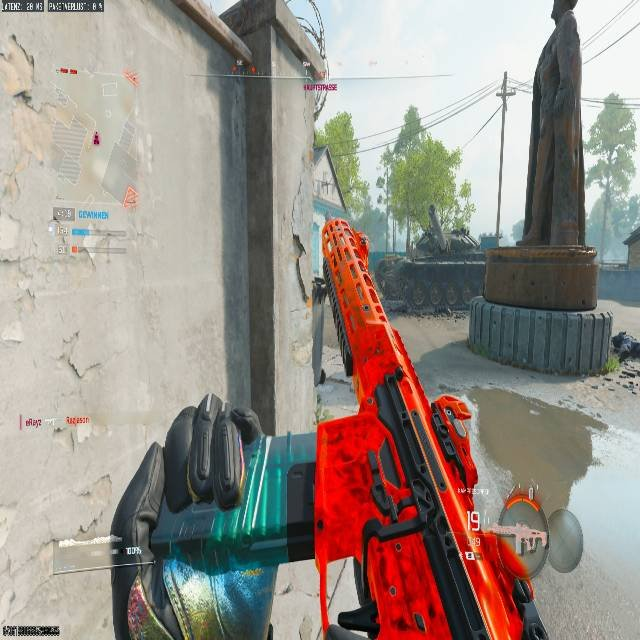head: (618, 329, 627, 338)
player: (611, 331, 640, 394)
